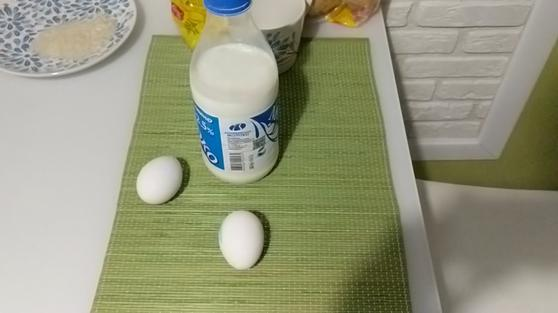egg: (211, 204, 271, 274), (132, 149, 185, 210)
milk: (188, 1, 285, 188)
rice: (24, 9, 123, 65)
